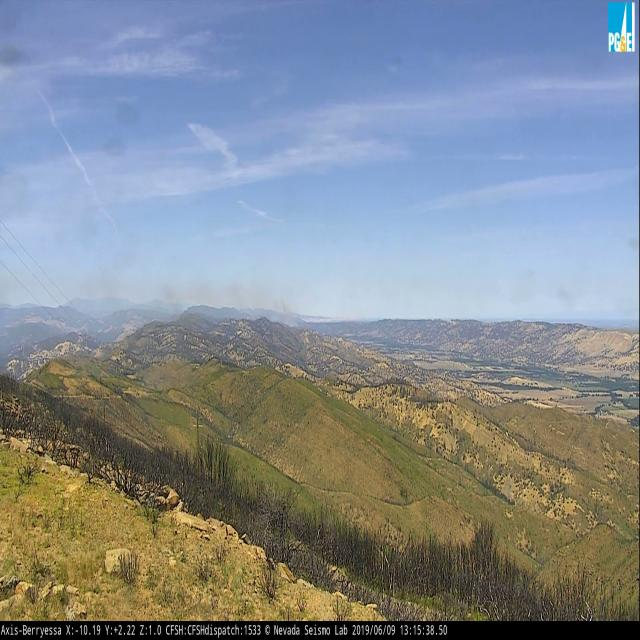smoke: (74, 273, 305, 331)
